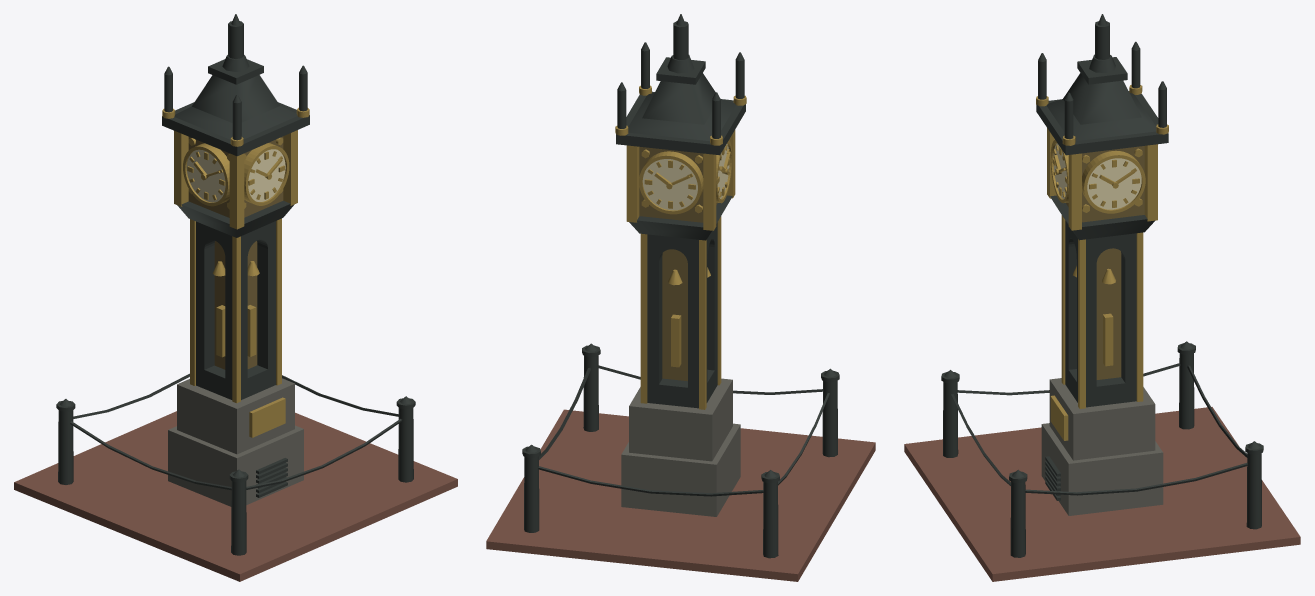
The model's file is gastown-steam-clock-near.glb.
3 views of the same model, side by side, from view 1: azimuth 30°, elevation 25°; view 2: azimuth 150°, elevation 25°; view 3: azimuth 270°, elevation 25° (orthographic). The views are drawn at different scales.
Visible parts, largest first — view 1: gastown-steam-clock-0-brick, gastown-steam-clock-0-bronze, gastown-steam-clock-0-brass, gastown-steam-clock-0-granite, gastown-steam-clock-0-glass, gastown-steam-clock-0-glow; view 2: gastown-steam-clock-0-brick, gastown-steam-clock-0-bronze, gastown-steam-clock-0-granite, gastown-steam-clock-0-brass, gastown-steam-clock-0-glass, gastown-steam-clock-0-glow; view 3: gastown-steam-clock-0-brick, gastown-steam-clock-0-bronze, gastown-steam-clock-0-granite, gastown-steam-clock-0-brass, gastown-steam-clock-0-glass, gastown-steam-clock-0-glow.
Part boxes in pixels (x1,y1,x2,y2): gastown-steam-clock-0-brick: (14,411,457,581); gastown-steam-clock-0-bronze: (56,14,415,555); gastown-steam-clock-0-brass: (162,107,309,437); gastown-steam-clock-0-granite: (168,378,303,506); gastown-steam-clock-0-glass: (188,136,283,369); gastown-steam-clock-0-glow: (186,149,285,202); gastown-steam-clock-0-brick: (486,409,875,581); gastown-steam-clock-0-bronze: (522,14,839,558); gastown-steam-clock-0-granite: (621,378,740,516); gastown-steam-clock-0-brass: (615,85,746,409); gastown-steam-clock-0-glass: (639,146,717,381); gastown-steam-clock-0-glow: (642,144,729,210); gastown-steam-clock-0-brick: (904,407,1300,581); gastown-steam-clock-0-bronze: (941,14,1263,557); gastown-steam-clock-0-granite: (1041,378,1163,515); gastown-steam-clock-0-brass: (1036,85,1168,440); gastown-steam-clock-0-glass: (1066,146,1144,379); gastown-steam-clock-0-glow: (1053,143,1141,209).
Size of the model in its own units: 3.71 by 5 by 3.71.
